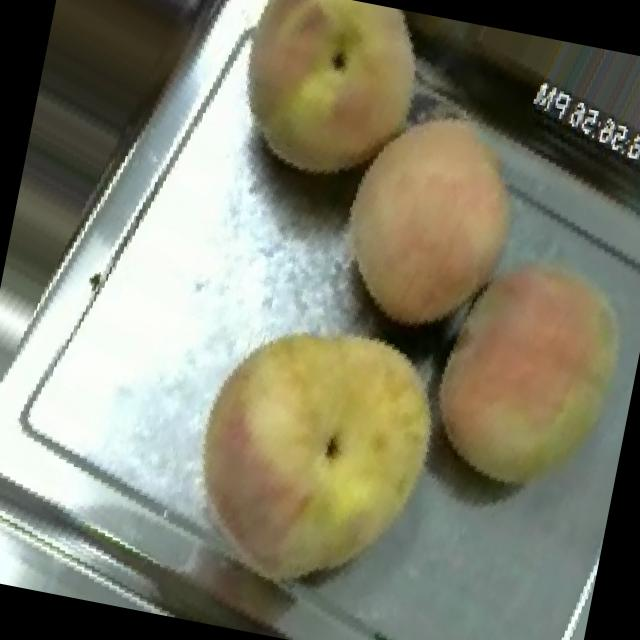Fruit: (134, 260, 495, 640), (383, 206, 640, 530), (293, 71, 566, 366), (190, 0, 459, 223)
